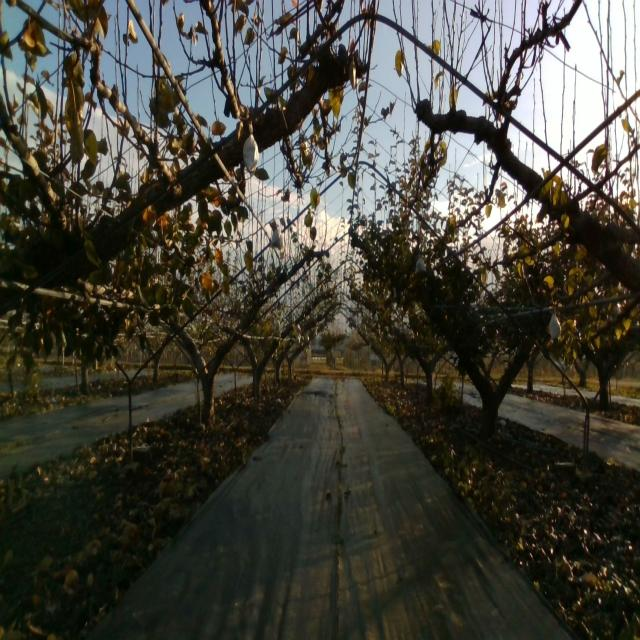pearbags: (243, 123, 259, 177), (549, 312, 562, 340), (270, 224, 284, 248), (414, 253, 426, 274)
